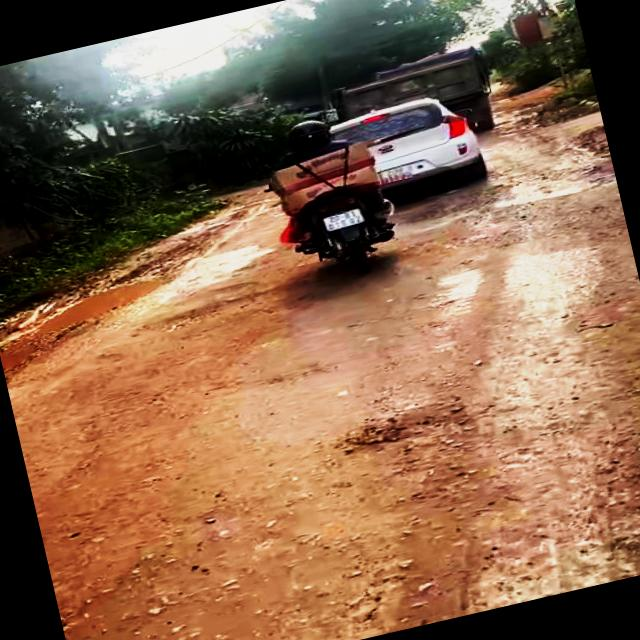pothole: (0, 261, 197, 377)
